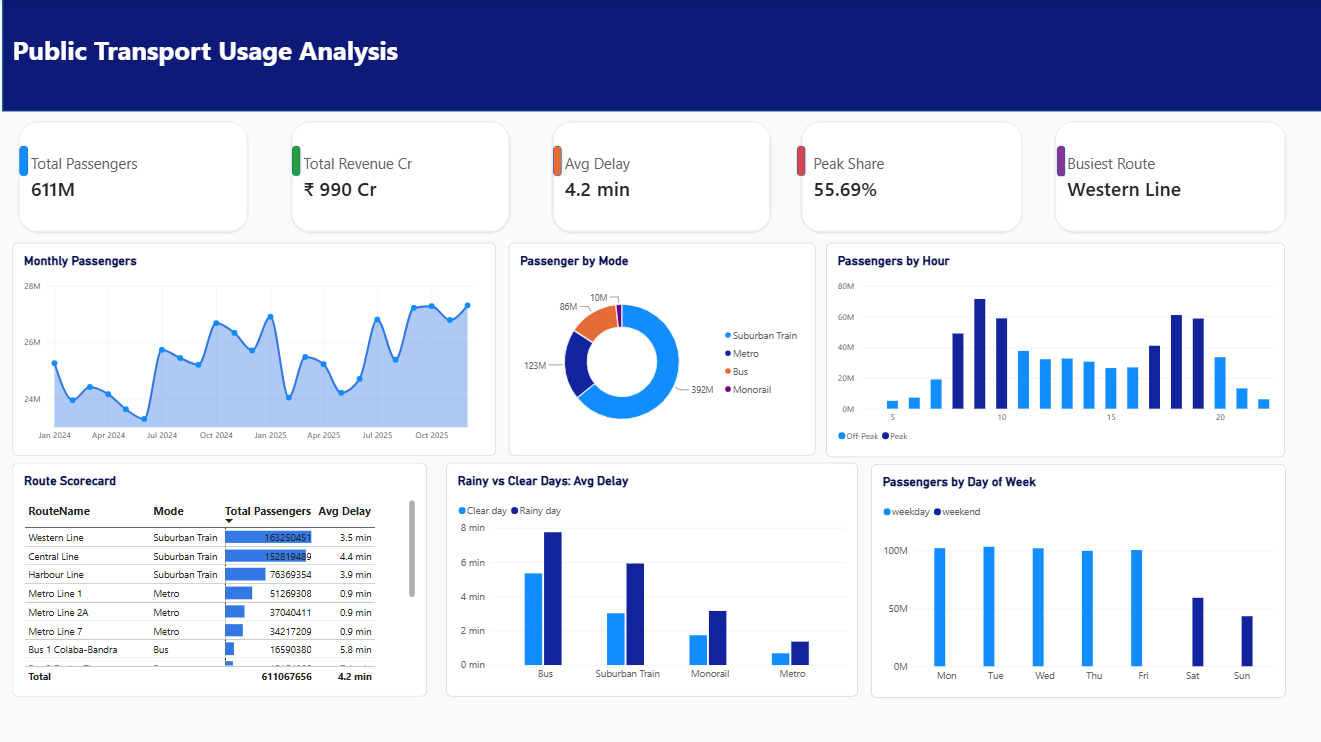

What the dashboard file says about the page in this screenshot:
{"tool":"powerbi","page":{"name":"Page 1","canvas":[1920,1080],"ordinal":0},"visuals":[{"type":"shape","box":[10.3,0,1910.1,162.6],"z":0},{"type":"cardVisual","fields":{"Data":["_Measures.Total Passengers"]},"box":[34,178,332,160],"z":1000},{"type":"cardVisual","fields":{"Data":["_Measures.Total Revenue Cr"]},"box":[428,178,316,160],"z":2000},{"type":"cardVisual","fields":{"Data":["_Measures.Avg Delay"]},"box":[808,178,316,160],"z":3000},{"type":"cardVisual","fields":{"Data":["_Measures.Peak Share"]},"box":[1168,178,320,160],"z":4000},{"type":"cardVisual","fields":{"Data":["_Measures.Busiest Route"]},"box":[1534,178,334,160],"z":5000},{"type":"shape","box":[34,212,14.4,45.3],"z":6000},{"type":"shape","box":[428,212,14.4,45.3],"z":7000},{"type":"shape","box":[808,212,14.4,45.3],"z":8000},{"type":"shape","box":[1160,212,14.4,45.3],"z":9000},{"type":"shape","box":[1536,212,14,46],"z":10000},{"type":"stackedAreaChart","title":"Monthly Passengers","fields":{"Category":["DateTable.MonthStart"],"Y":["_Measures.Total Passengers"]},"box":[26,352,700,308],"z":11000},{"type":"donutChart","title":"Passenger by Mode","fields":{"Category":["dim_route.Mode"],"Y":["_Measures.Total Passengers"]},"box":[744,352,444,308],"z":12000},{"type":"columnChart","title":"Passengers by Hour","fields":{"Y":["_Measures.Total Passengers"],"Category":["fact_ridership.Hour"],"Series":["fact_ridership.TimeType"]},"box":[1204,352,664,310],"z":13000},{"type":"textbox","box":[26,48,600,68],"z":14000},{"type":"tableEx","title":"Route Scorecard","fields":{"Values":["dim_route.RouteName","dim_route.Mode","_Measures.Total Passengers","_Measures.Avg Delay"]},"box":[26,672,600,338],"z":15001},{"type":"clusteredColumnChart","title":"Rainy vs Clear Days: Avg Delay","fields":{"Category":["dim_route.Mode"],"Y":["_Measures.Avg Delay"],"Series":["dim_weather.RainType"]},"box":[654,672,596,338],"z":15002},{"type":"clusteredColumnChart","title":"Passengers by Day of Week","fields":{"Category":["DateTable.DayName"],"Y":["_Measures.Total Passengers"],"Series":["DateTable.DayGroup"]},"box":[1268,674,600,338],"z":15003}]}

Visuals, with their boxes in screenshot pixels (x1, y1, x2, y2), scaled from the page's 1920x1080 canvas onto the 1321x742 screenshot:
shape: (x1=7, y1=0, x2=1320, y2=112)
cardVisual - _Measures.Total Passengers: (x1=23, y1=122, x2=252, y2=232)
cardVisual - _Measures.Total Revenue Cr: (x1=294, y1=122, x2=512, y2=232)
cardVisual - _Measures.Avg Delay: (x1=556, y1=122, x2=773, y2=232)
cardVisual - _Measures.Peak Share: (x1=804, y1=122, x2=1024, y2=232)
cardVisual - _Measures.Busiest Route: (x1=1055, y1=122, x2=1285, y2=232)
shape: (x1=23, y1=146, x2=33, y2=177)
shape: (x1=294, y1=146, x2=304, y2=177)
shape: (x1=556, y1=146, x2=566, y2=177)
shape: (x1=798, y1=146, x2=808, y2=177)
shape: (x1=1057, y1=146, x2=1066, y2=177)
"Monthly Passengers" stackedAreaChart: (x1=18, y1=242, x2=500, y2=453)
"Passenger by Mode" donutChart: (x1=512, y1=242, x2=817, y2=453)
"Passengers by Hour" columnChart: (x1=828, y1=242, x2=1285, y2=455)
textbox: (x1=18, y1=33, x2=431, y2=80)
"Route Scorecard" tableEx: (x1=18, y1=462, x2=431, y2=694)
"Rainy vs Clear Days: Avg Delay" clusteredColumnChart: (x1=450, y1=462, x2=860, y2=694)
"Passengers by Day of Week" clusteredColumnChart: (x1=872, y1=463, x2=1285, y2=695)
